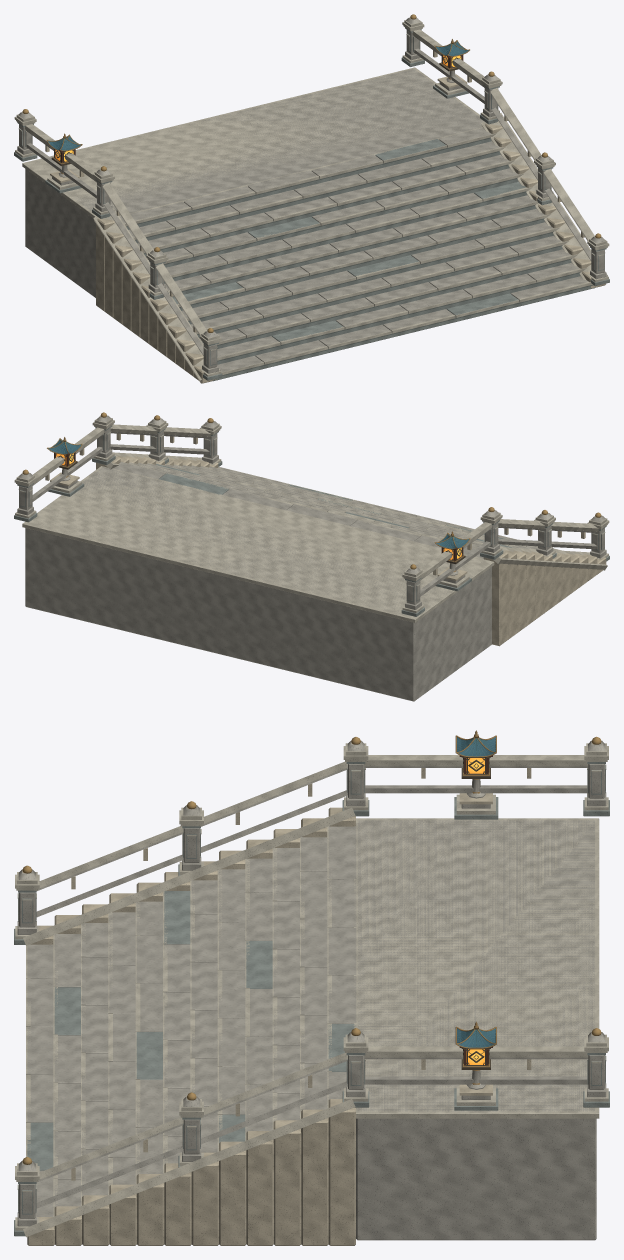
3 renders of one model, top to bottom at view 1: azimuth 30°, elevation 25°; view 2: azimuth 150°, elevation 25°; view 3: azimuth 270°, elevation 25°, orthographic. The views are drawn at different scales.
Visible parts, largest first — view 1: C07_stone, C07_light, C07_cool, C07_relief, C07_joint, C07_blue; view 2: C07_stone, C07_light, C07_relief, C07_cool, C07_blue, C07_gold; view 3: C07_stone, C07_light, C07_relief, C07_cool, C07_blue, C07_gold.
Part boxes in pixels (x1,y1,x2,y2): C07_stone: (17,17,606,374); C07_light: (14,20,609,383); C07_cool: (14,27,609,381); C07_relief: (45,50,605,383); C07_joint: (126,137,593,375); C07_blue: (48,41,468,150); C07_stone: (17,415,606,701); C07_light: (14,418,609,622); C07_relief: (45,433,606,646); C07_cool: (14,426,609,616); C07_blue: (48,439,469,548); C07_gold: (47,437,470,572); C07_stone: (17,740,606,1240); C07_light: (15,743,608,1237); C07_relief: (27,768,531,1245); C07_cool: (14,762,609,1236); C07_blue: (457,737,495,1047); C07_gold: (455,730,496,1084).
Size of the model in its own units: 9.91 by 3.28 by 8.05.
Materials: 12 (6 with a texture image).
